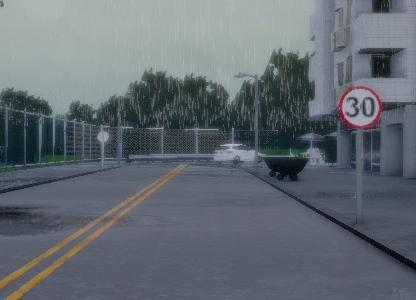Speed_30: (337, 85, 381, 131)
